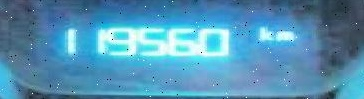0: (195, 23, 229, 58)
1: (56, 25, 76, 56), (89, 25, 104, 56)
5: (136, 26, 165, 58)
6: (165, 26, 196, 57)
9: (105, 25, 136, 56)
X: (255, 23, 271, 42), (273, 27, 293, 42)
